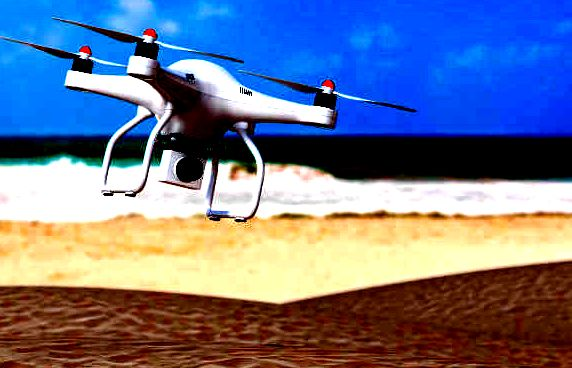Drone: (4, 13, 417, 222)
